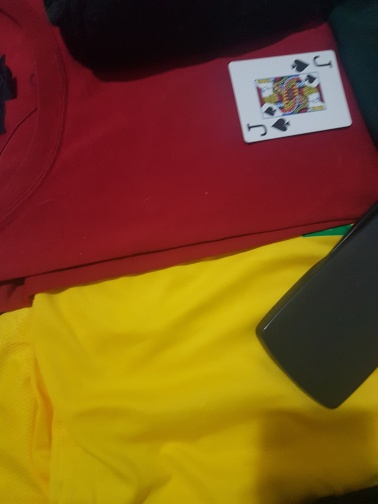jack: (228, 47, 353, 143)
